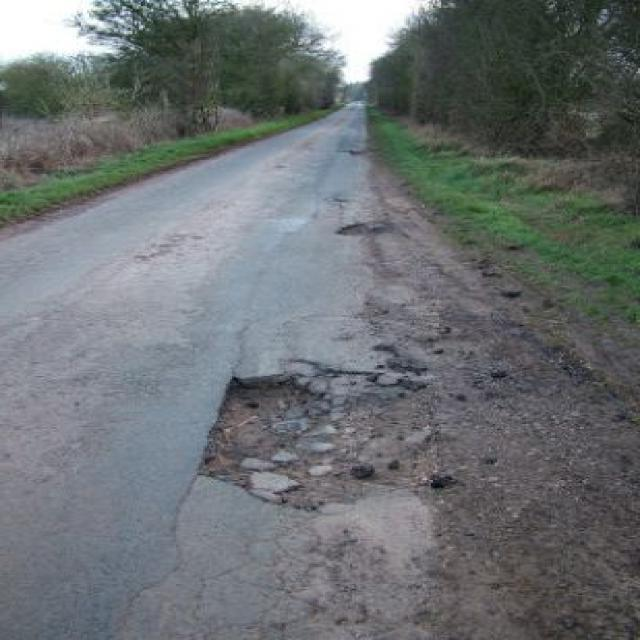Pothole: (197, 359, 448, 513)
